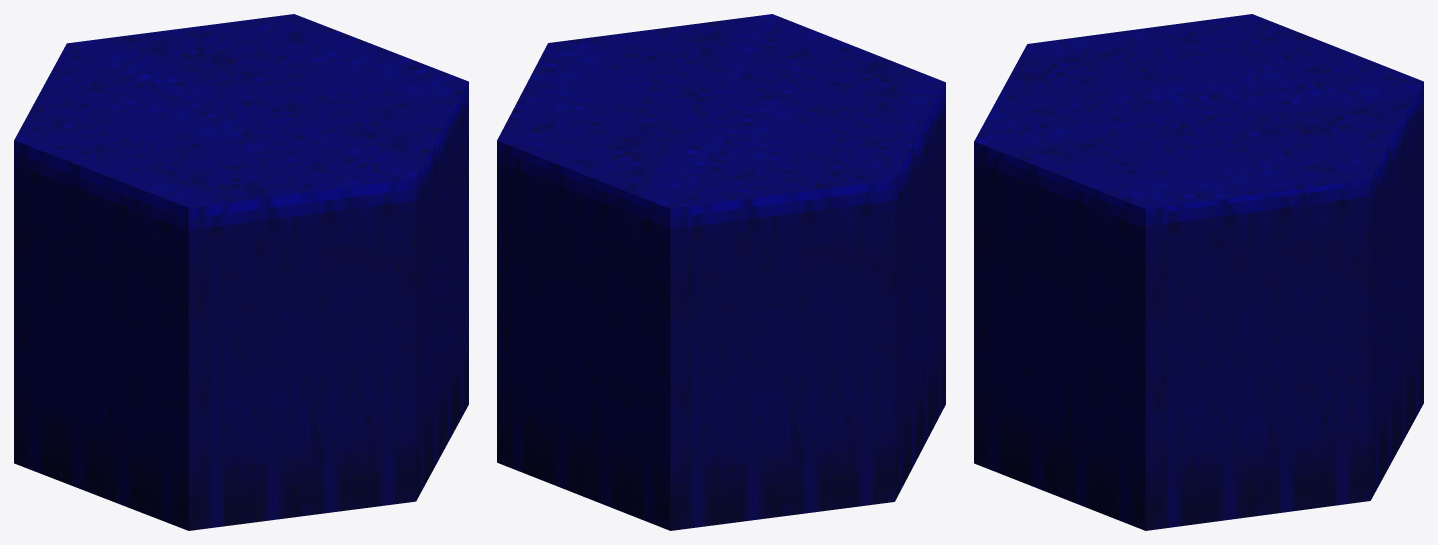
The model's file is primary_049.glb.
3 views of the same model, side by side, from view 1: azimuth 30°, elevation 25°; view 2: azimuth 150°, elevation 25°; view 3: azimuth 270°, elevation 25° (orthographic).
Visible parts, largest first — view 1: Object; view 2: Object; view 3: Object.
Boxes of the visible parts, box(x1,y1,x2,y2) form: Object: box(14, 14, 468, 530); Object: box(497, 14, 945, 530); Object: box(974, 14, 1423, 530).
Size of the model in its own units: 0.2206 by 0.1697 by 0.2149.
2 materials, 2 textured.
